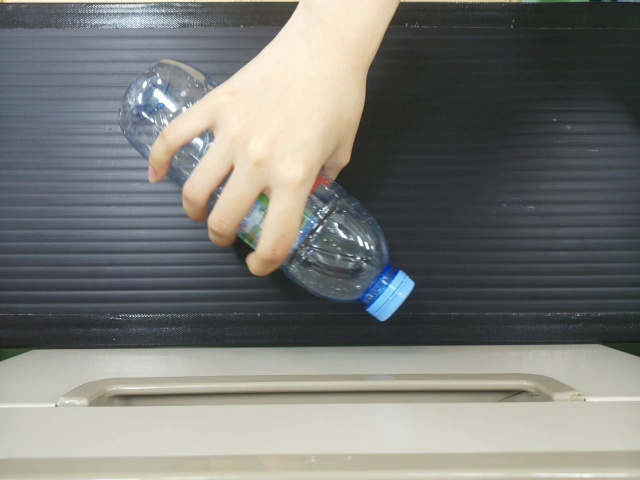bottle: (280, 167, 422, 316), (114, 52, 212, 159)
